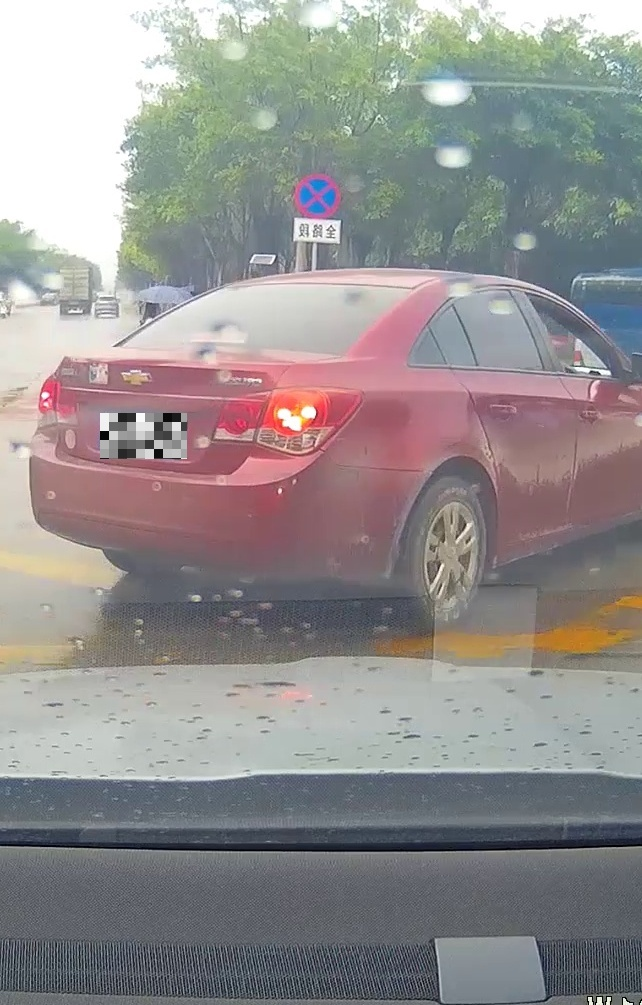L_light: (38, 373, 84, 419)
R_light: (210, 386, 364, 458)
T_light: (190, 332, 248, 344)
day-right: (29, 269, 414, 637)
plate_1: (100, 413, 187, 459)
